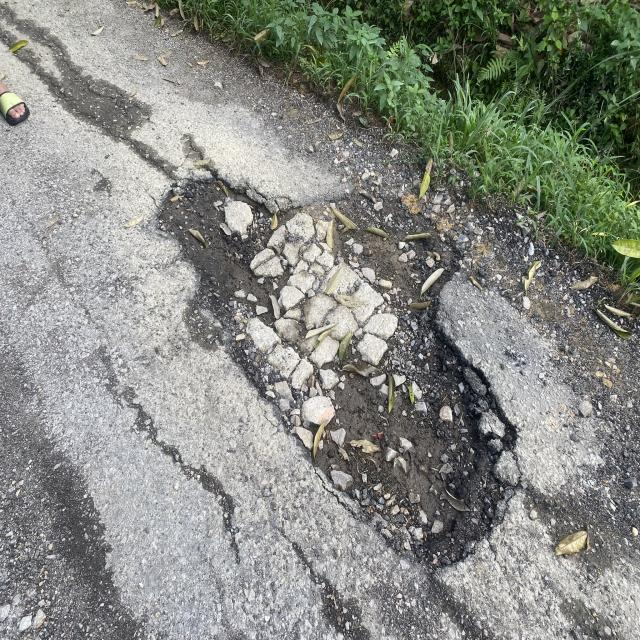Pothole: (160, 148, 518, 626)
